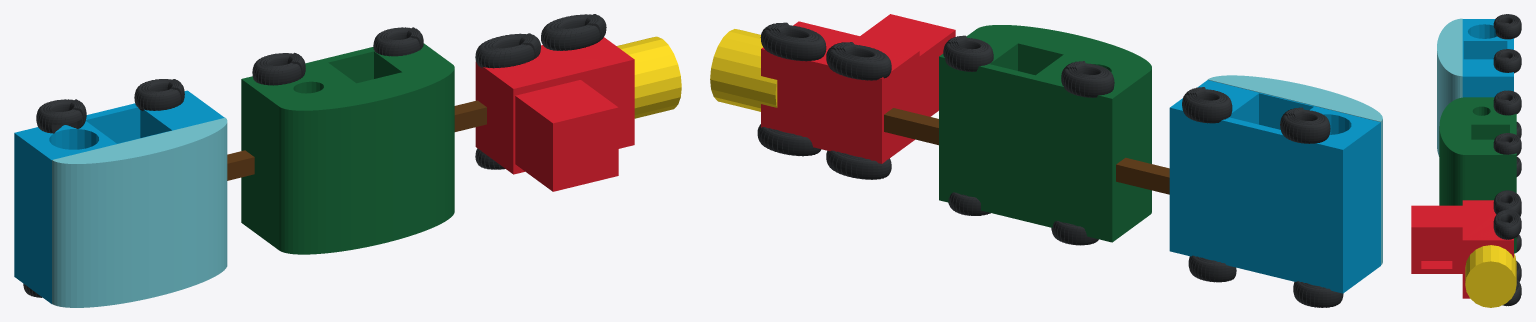
File: tinker.obj
The picture shows the model from 3 angles, left to right: view 1: azimuth 30°, elevation 25°; view 2: azimuth 150°, elevation 25°; view 3: azimuth 270°, elevation 25°; orthographic projection. The views are drawn at different scales.
Parts seen in each view (by area): view 1: group_0_1206582, group_0_7720667, group_0_15277357, group_0_40919, group_0_2829873, group_0_16768282, group_0_6306067; view 2: group_0_1206582, group_0_40919, group_0_15277357, group_0_2829873, group_0_16768282, group_0_7720667, group_0_6306067; view 3: group_0_1206582, group_0_15277357, group_0_2829873, group_0_40919, group_0_16768282, group_0_7720667.
Boxes of the visible parts, box(x1,y1,x2,y2) form: group_0_1206582: box(241, 43, 454, 254); group_0_7720667: box(52, 117, 227, 307); group_0_15277357: box(475, 37, 634, 191); group_0_40919: box(14, 90, 224, 303); group_0_2829873: box(23, 14, 606, 297); group_0_16768282: box(616, 36, 681, 118); group_0_6306067: box(227, 100, 486, 180); group_0_1206582: box(939, 25, 1151, 242); group_0_40919: box(1169, 80, 1380, 293); group_0_15277357: box(761, 14, 955, 163); group_0_2829873: box(757, 22, 1343, 307); group_0_16768282: box(710, 29, 777, 111); group_0_7720667: box(1207, 75, 1382, 264); group_0_6306067: box(884, 108, 1169, 194); group_0_1206582: box(1439, 97, 1516, 252); group_0_15277357: box(1411, 200, 1513, 298); group_0_2829873: box(1493, 14, 1521, 306); group_0_40919: box(1462, 19, 1513, 97); group_0_16768282: box(1465, 245, 1516, 307); group_0_7720667: box(1437, 18, 1462, 156).
Size of the model in its own units: 193 by 53 by 43.
